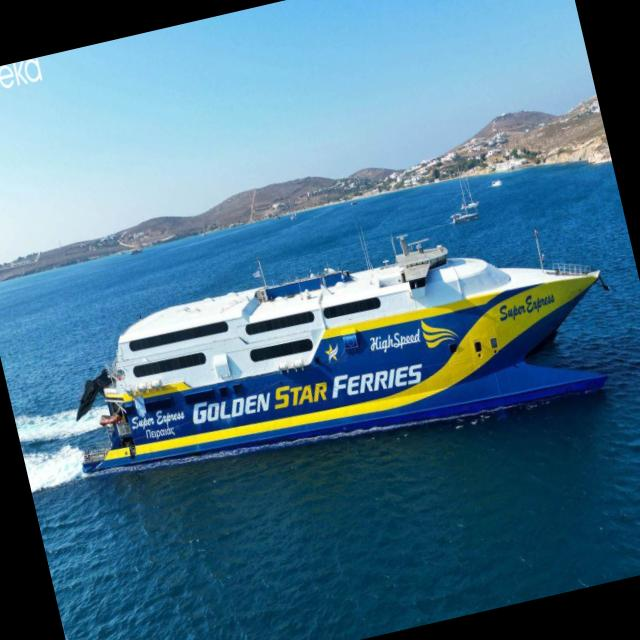boat: (17, 153, 640, 552)
